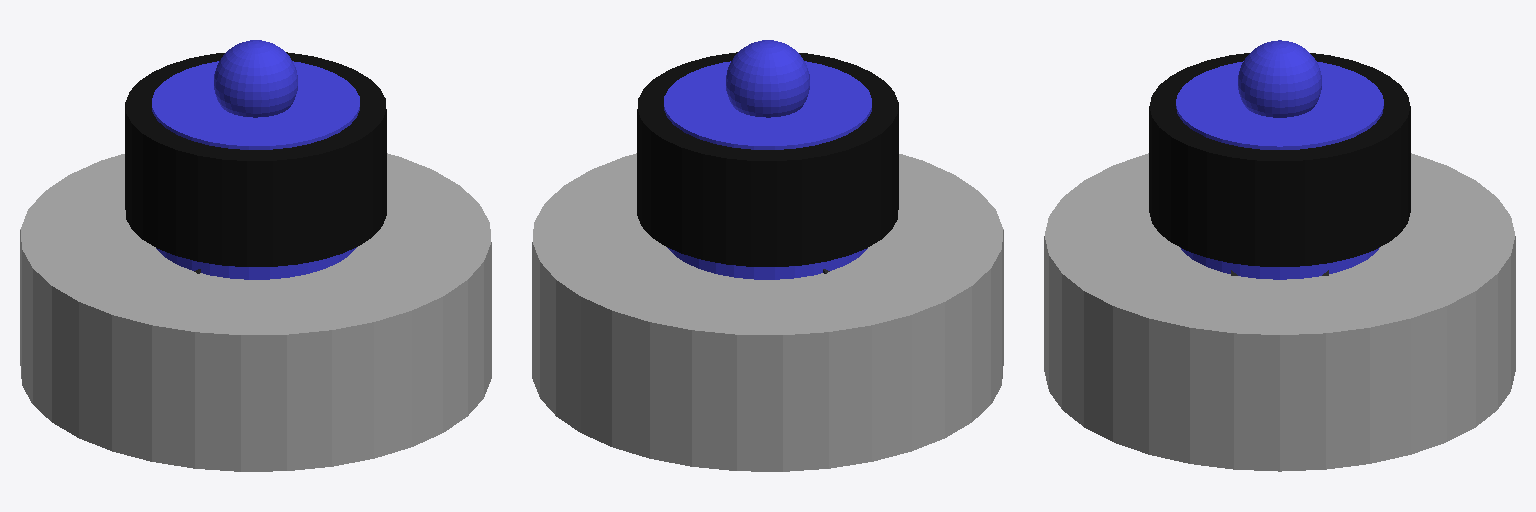
The robot description file, URDF, robot "evolved_robot":
<?xml version="1.0"?>
<robot name="evolved_robot">
  <material name="metal">
    <color rgba="0.7 0.7 0.7 1.0"/>
  </material>
  <material name="plastic">
    <color rgba="0.3 0.3 0.9 1.0"/>
  </material>
  <material name="rubber">
    <color rgba="0.1 0.1 0.1 1.0"/>
  </material>
  <material name="red">
    <color rgba="1.0 0.0 0.0 1.0"/>
  </material>
  <material name="wheel_material">
    <color rgba="0.2 0.2 0.2 1.0"/>
  </material>
  <link name="base_link">
    <visual>
      <geometry><cylinder radius="0.1394601768424166" length="0.08906482229332736"/></geometry>
      <material name="metal"/>
    </visual>
    <collision>
      <geometry><cylinder radius="0.1394601768424166" length="0.08906482229332736"/></geometry>
    </collision>
    <inertial>
      <mass value="5.0"/>
      <inertia ixx="0.05523330445408026" ixy="0" ixz="0" 
               iyy="0.05523330445408026" iyz="0" 
               izz="0.09724570462459056"/>
    </inertial>
  </link>
  <link name="link1">
    <visual>
      <geometry><cylinder radius="0.061727959656954046" length="0.17404282778963115"/></geometry>
      <material name="plastic"/>
    </visual>
    <collision>
      <geometry><cylinder radius="0.061727959656954046" length="0.17404282778963115"/></geometry>
    </collision>
    <inertial>
      <mass value="0.5"/>
      <inertia ixx="0.0034768274096035703" ixy="0" ixz="0" 
               iyy="0.0034768274096035703" iyz="0" 
               izz="0.0019051705017052731"/>
    </inertial>
  </link>
  <joint name="joint1" type="prismatic">
    <parent link="base_link"/>
    <child link="link1"/>
    <origin xyz="0 0 0.04453241114666368" rpy="0 0 0"/>
    <axis xyz="-0.5595763889436463 -0.663554770456911 0.496557480600852"/>
    <dynamics damping="0.6439134469997867" friction="0.1"/>
    <limit lower="-1.7983628629400197" upper="0.9337413893484343" effort="100" velocity="100"/>
  </joint>
  <link name="link2">
    <visual>
      <geometry>
        <cylinder radius="0.07235348352269437" length="0.05838185483278828"/>
      </geometry>
      <material name="wheel_material"/>
    </visual>
    <collision>
      <geometry>
        <cylinder radius="0.07235348352269437" length="0.05838185483278828"/>
      </geometry>
    </collision>
    <inertial>
      <mass value="1.0"/>
      <inertia ixx="0.0015927933922769318" ixy="0" ixz="0" 
               iyy="0.0015927933922769318" iyz="0" 
               izz="0.002617513288934403"/>
    </inertial>
  </link>
  <joint name="joint2" type="continuous">
    <parent link="base_link"/>
    <child link="link2"/>
    <origin xyz="0 0 0" rpy="1.5708 0 0"/>
    <axis xyz="0 1 0"/>
    <dynamics damping="0.6987224260398152" friction="0.1"/>
  </joint>
  <link name="link3">
    <visual>
      <geometry><cylinder radius="0.07732637535094669" length="0.06916348808993611"/></geometry>
      <material name="rubber"/>
    </visual>
    <collision>
      <geometry><cylinder radius="0.07732637535094669" length="0.06916348808993611"/></geometry>
    </collision>
    <inertial>
      <mass value="0.5"/>
      <inertia ixx="0.001893474421626102" ixy="0" ixz="0" 
               iyy="0.001893474421626102" iyz="0" 
               izz="0.002989684162457748"/>
    </inertial>
  </link>
  <joint name="joint3" type="revolute">
    <parent link="base_link"/>
    <child link="link3"/>
    <origin xyz="0 0 0.09453241114666369" rpy="0 0 0"/>
    <axis xyz="-0.6726481311528646 0.5003878524044902 0.545120618599756"/>
    <dynamics damping="0.5710222710429862" friction="0.1"/>
    <limit lower="-1.6464221671866734" upper="1.9719597524889452" effort="100" velocity="100"/>
  </joint>
  <link name="link4">
    <visual>
      <geometry><sphere radius="0.02506528839736525"/></geometry>
      <material name="plastic"/>
    </visual>
    <collision>
      <geometry><sphere radius="0.02506528839736525"/></geometry>
    </collision>
    <inertial>
      <mass value="0.5"/>
      <inertia ixx="0.0002513074729772372" ixy="0" ixz="0" 
               iyy="0.0002513074729772372" iyz="0" 
               izz="0.0002513074729772372"/>
    </inertial>
  </link>
  <joint name="joint4" type="prismatic">
    <parent link="base_link"/>
    <child link="link4"/>
    <origin xyz="0 0 0.14453241114666368" rpy="0 0 0"/>
    <axis xyz="-0.08655124418525123 -0.8915296661176987 -0.44461639259259167"/>
    <dynamics damping="0.7617778135493298" friction="0.1"/>
    <limit lower="-0.6705610024174679" upper="1.2738710232739712" effort="100" velocity="100"/>
  </joint>
</robot>

--- What the picture shows (computed from the rendered views, not written in the file) ---
Views: 3 orthographic renders of the robot side by side, from view 1: azimuth 30°, elevation 25°; view 2: azimuth 150°, elevation 25°; view 3: azimuth 270°, elevation 25°.
Model evolved_robot with 5 links and 4 joints (1 revolute, 1 continuous, 2 prismatic), rooted at base_link, posed all joints at 0.
Visible links, largest first — view 1: base_link, link3, link1, link4; view 2: base_link, link3, link1, link4; view 3: base_link, link3, link1, link4.
Boxes of the visible links, x1,y1,x2,y2 form: base_link: [20, 153, 491, 471]; link3: [125, 52, 386, 266]; link1: [152, 61, 359, 279]; link4: [214, 40, 297, 117]; base_link: [532, 153, 1003, 471]; link3: [637, 52, 898, 266]; link1: [664, 61, 871, 279]; link4: [726, 40, 809, 117]; base_link: [1044, 153, 1515, 471]; link3: [1149, 53, 1410, 266]; link1: [1176, 61, 1383, 279]; link4: [1238, 40, 1321, 117].
Bounding box of the posed robot: 0.2789 × 0.2789 × 0.242 m (x, y, z).
Geometry: primitives only (box / cylinder / sphere), no mesh files.